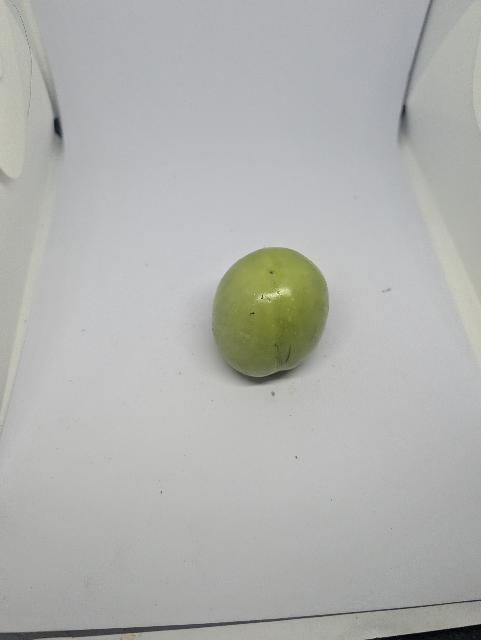green: (207, 234, 336, 395)
